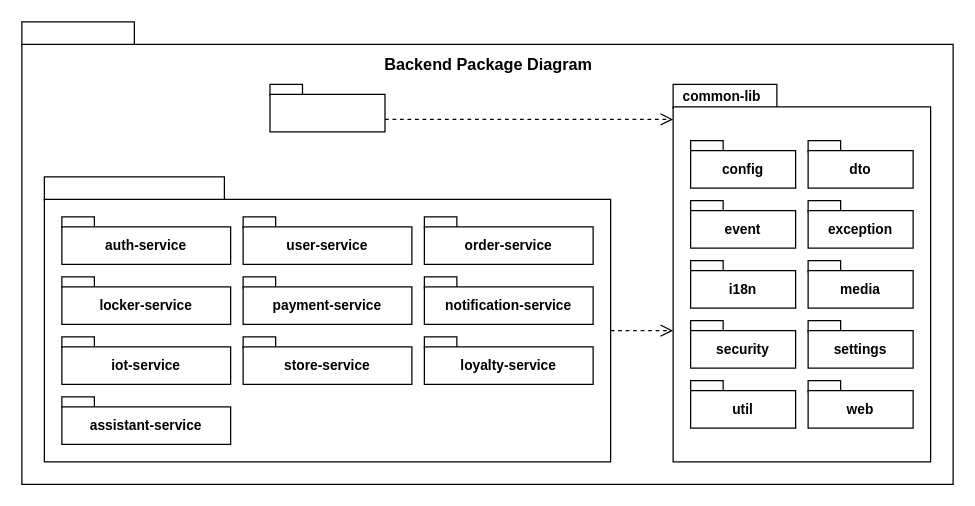
Some shapes in this 975 by 506 pixel diagram are drawn without their labels. Here are the shapes that lost their labels. From the top down, the box of each, then its label:
(269, 93, 385, 132): api-gateway
(43, 176, 224, 201): Backend Microservices
